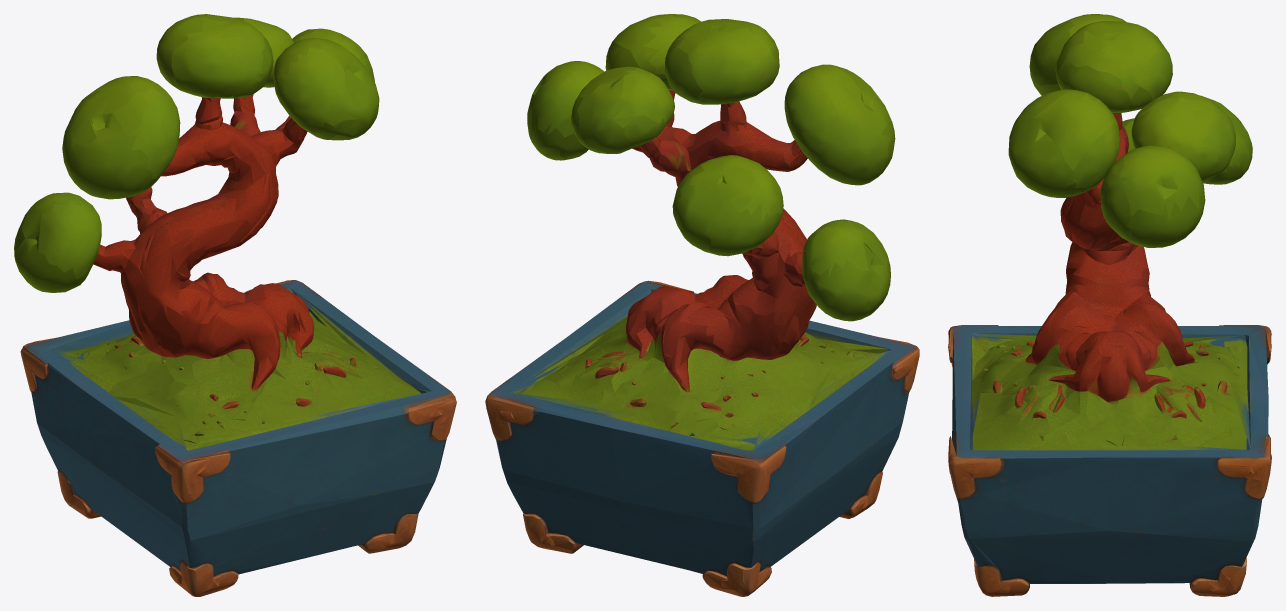
File: bonsai.glb
The picture shows the model from 3 angles, left to right: view 1: azimuth 30°, elevation 25°; view 2: azimuth 150°, elevation 25°; view 3: azimuth 270°, elevation 25°; orthographic projection.
Visible parts, largest first — view 1: Mesh_0; view 2: Mesh_0; view 3: Mesh_0.
Part boxes in pixels (x1,y1,x2,y2): Mesh_0: (14,14,456,596); Mesh_0: (485,14,919,596); Mesh_0: (948,14,1271,596).
Bounding box in the file's own units: 1.35 × 1.9 × 1.11.
1 material, 1 textured.
